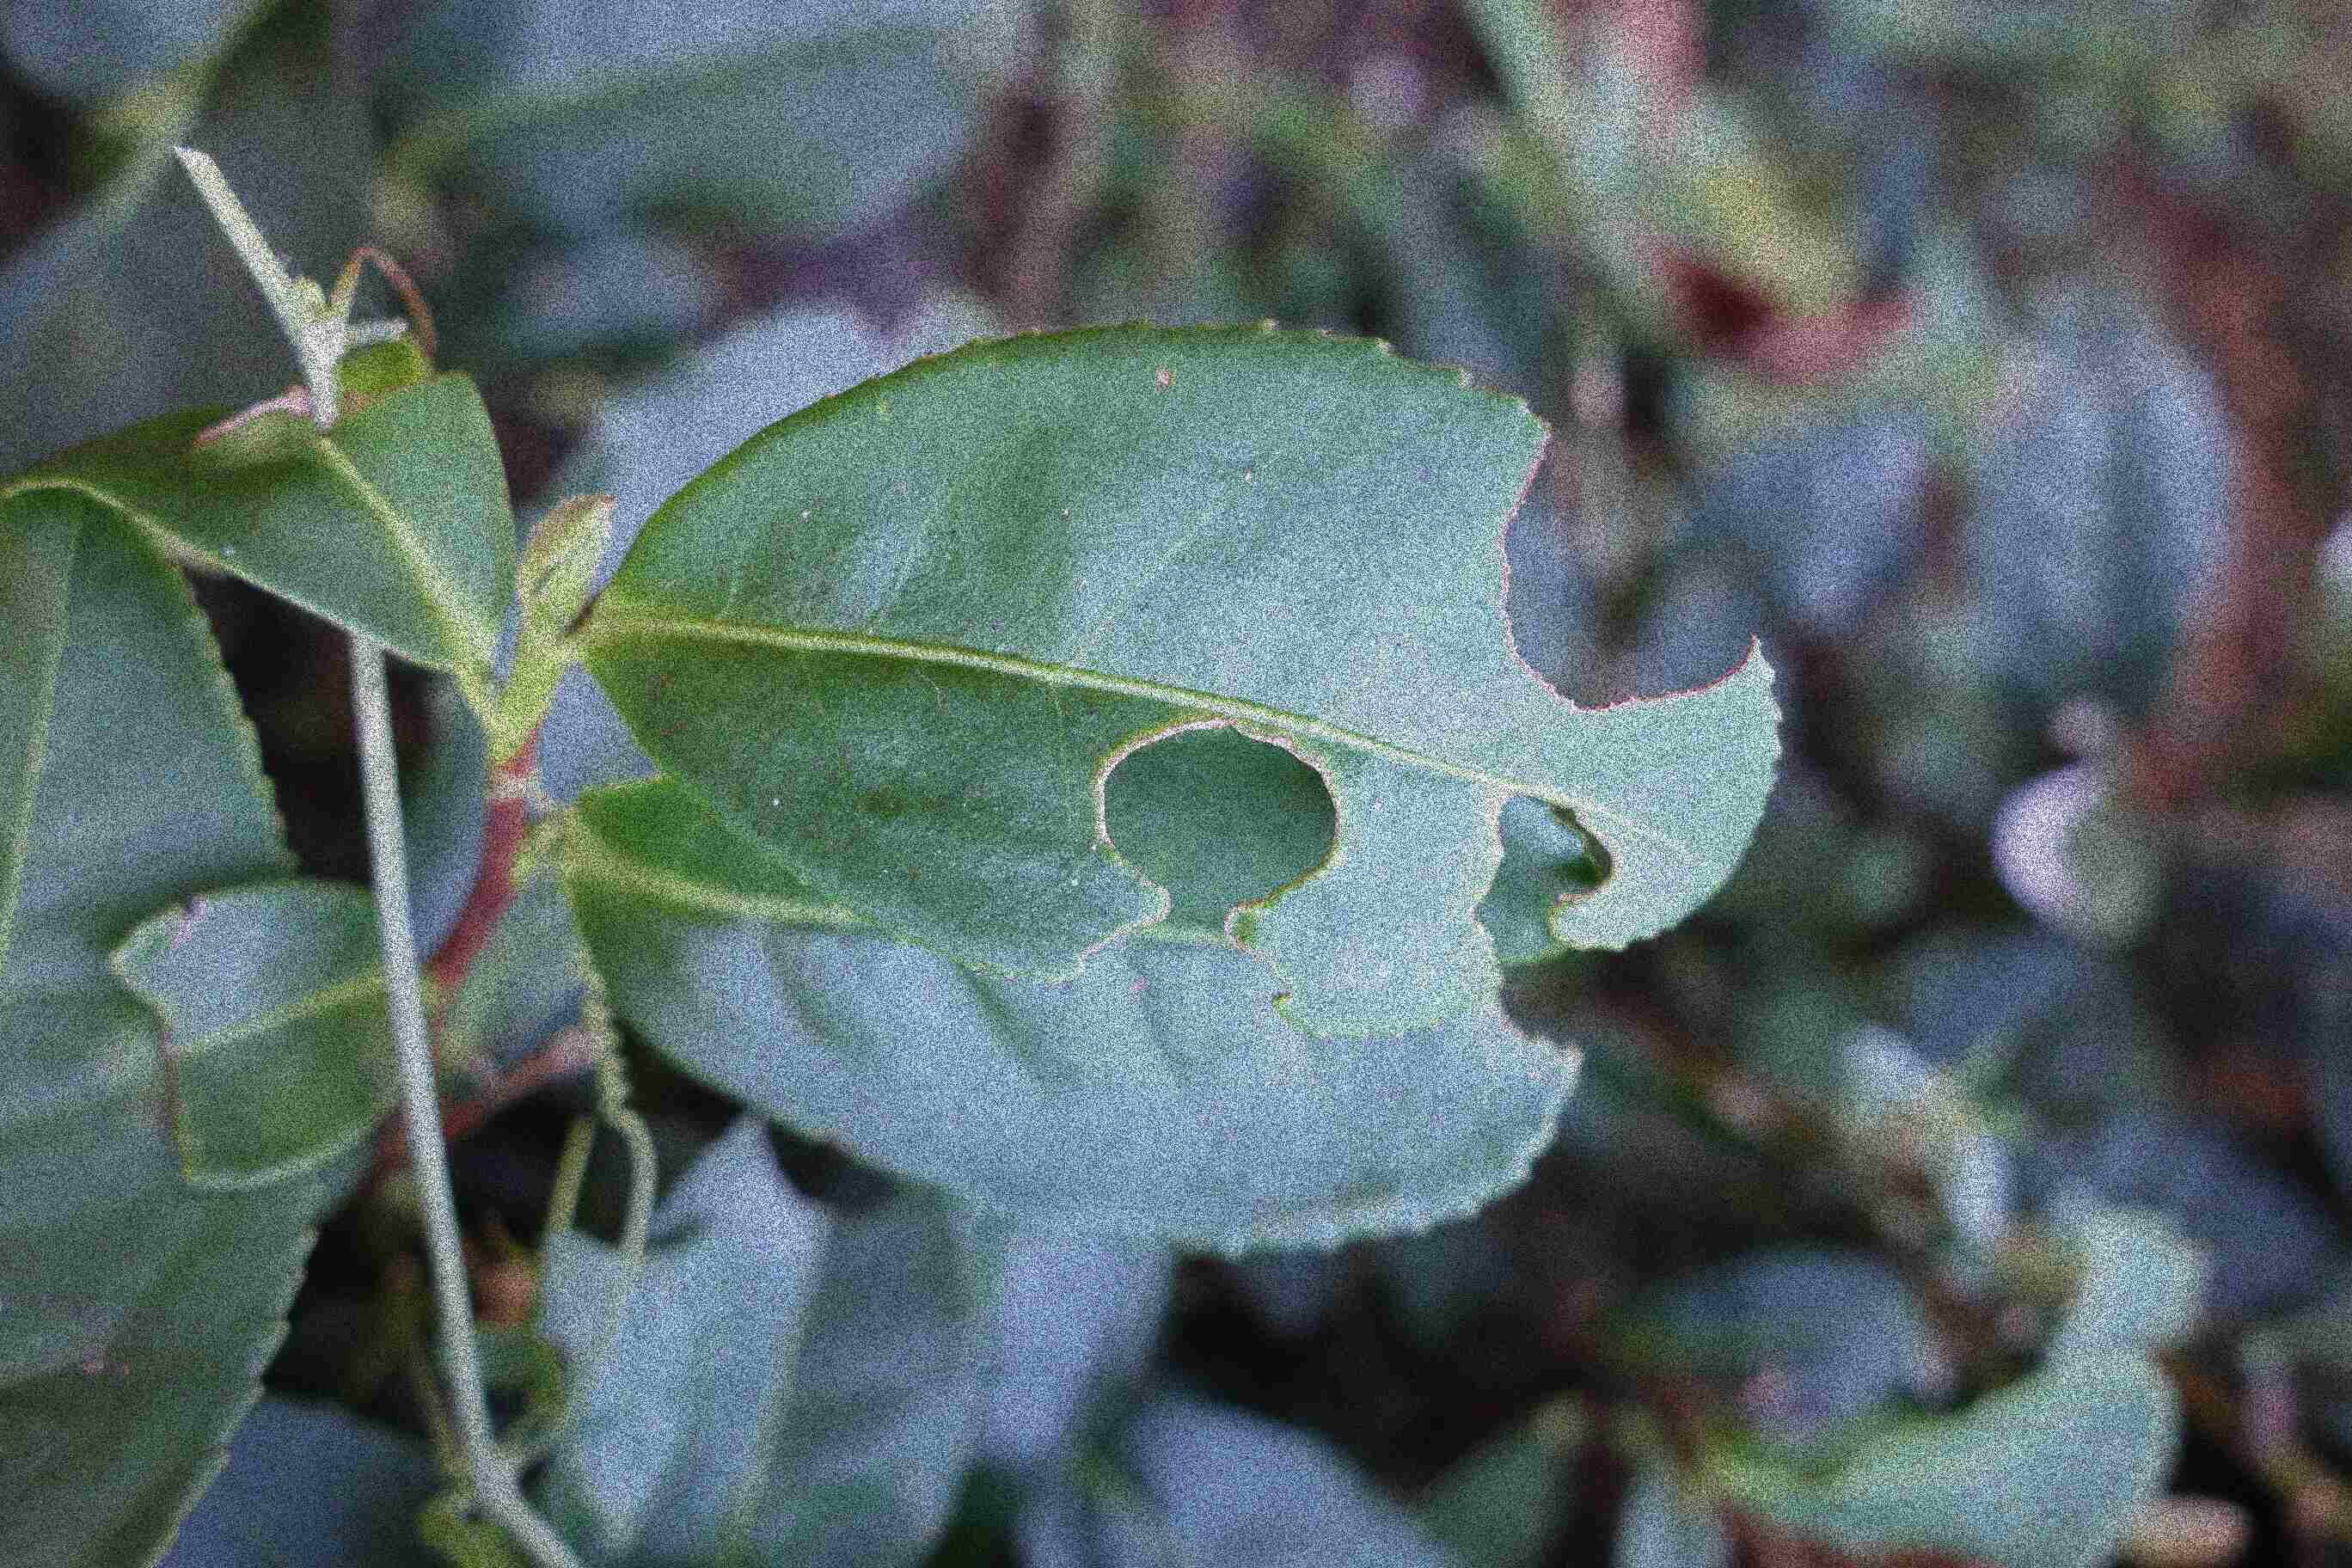chihuo_high: (549, 315, 1790, 1045), (101, 878, 394, 1186)
